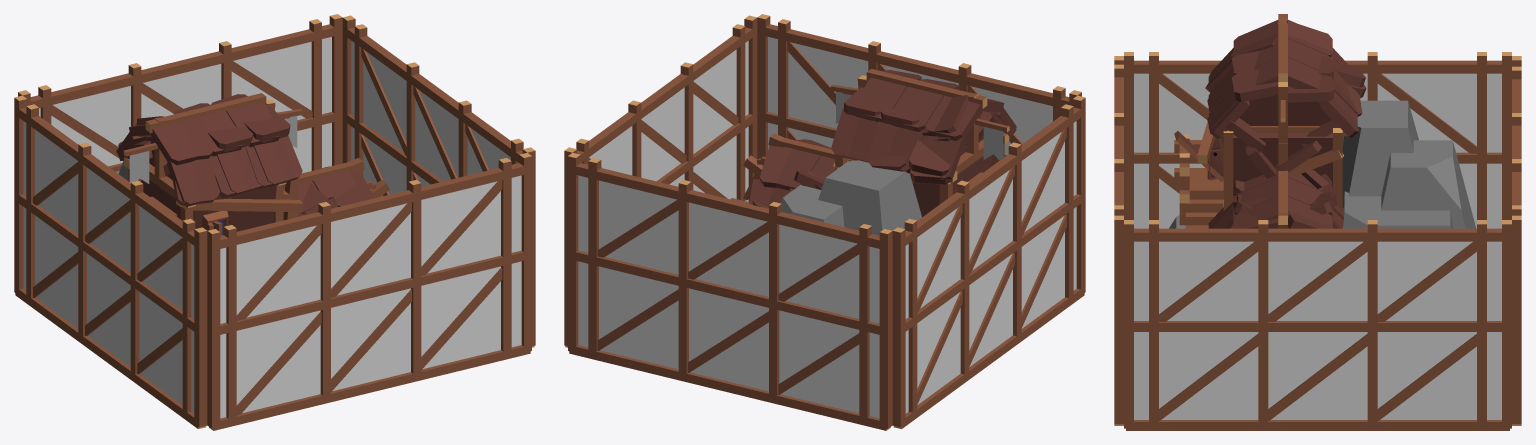
File: Mine.fbx
The picture shows the model from 3 angles, left to right: view 1: azimuth 30°, elevation 25°; view 2: azimuth 150°, elevation 25°; view 3: azimuth 270°, elevation 25°; orthographic projection. The views are drawn at different scales.
Parts seen in each view (by area): view 1: Scaffold, Destruction_phase_2, Roof, Destruction_phase_3, Carcass, Second_Floor, Destruction_phase_1, Flag_1; view 2: Scaffold, Roof, Destruction_phase_2, Stones, Carcass, Destruction_phase_3, Second_Floor, Flag_1; view 3: Scaffold, Destruction_phase_2, Stones, Roof, Carcass, Destruction_phase_3, Destruction_phase_1.
Boxes of the visible parts, x1,y1,x2,y2 form: Scaffold: (14,14,535,430); Destruction_phase_2: (118,94,376,230); Roof: (116,102,356,217); Destruction_phase_3: (118,134,389,235); Carcass: (123,93,352,222); Second_Floor: (141,137,180,219); Destruction_phase_1: (212,114,329,235); Flag_1: (129,151,149,183); Scaffold: (564,14,1085,430); Roof: (768,77,1016,207); Destruction_phase_2: (749,70,1016,206); Stones: (780,160,921,235); Carcass: (780,69,1009,204); Destruction_phase_3: (730,111,1006,208); Second_Floor: (912,111,991,217); Flag_1: (983,126,1003,160); Scaffold: (1114,52,1521,430); Destruction_phase_2: (1205,17,1365,228); Stones: (1169,100,1476,228); Roof: (1208,20,1357,228); Carcass: (1174,14,1347,228); Destruction_phase_3: (1174,84,1366,222); Destruction_phase_1: (1207,137,1336,211).
Size of the model in its own units: 4.1 by 3 by 4.1.
